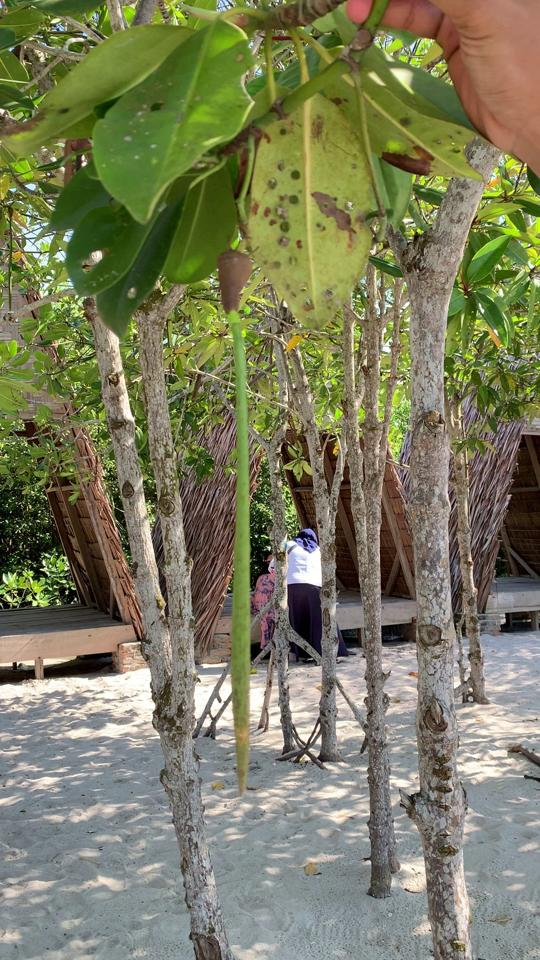setengah matang: (211, 238, 274, 800)
